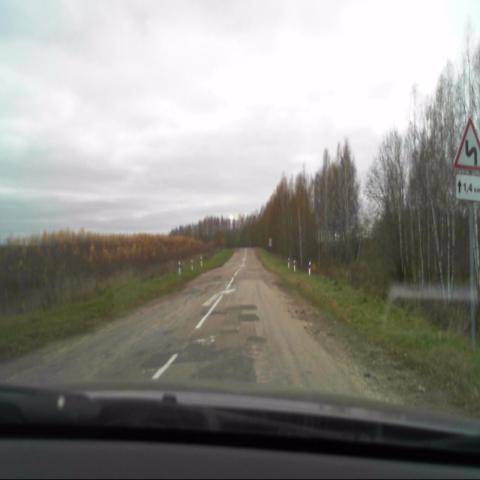1_12_2: (455, 115, 480, 167)
